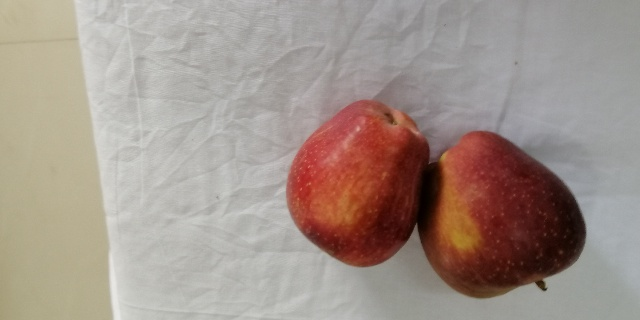apple_kashmir: (416, 129, 586, 299), (285, 93, 427, 267)
